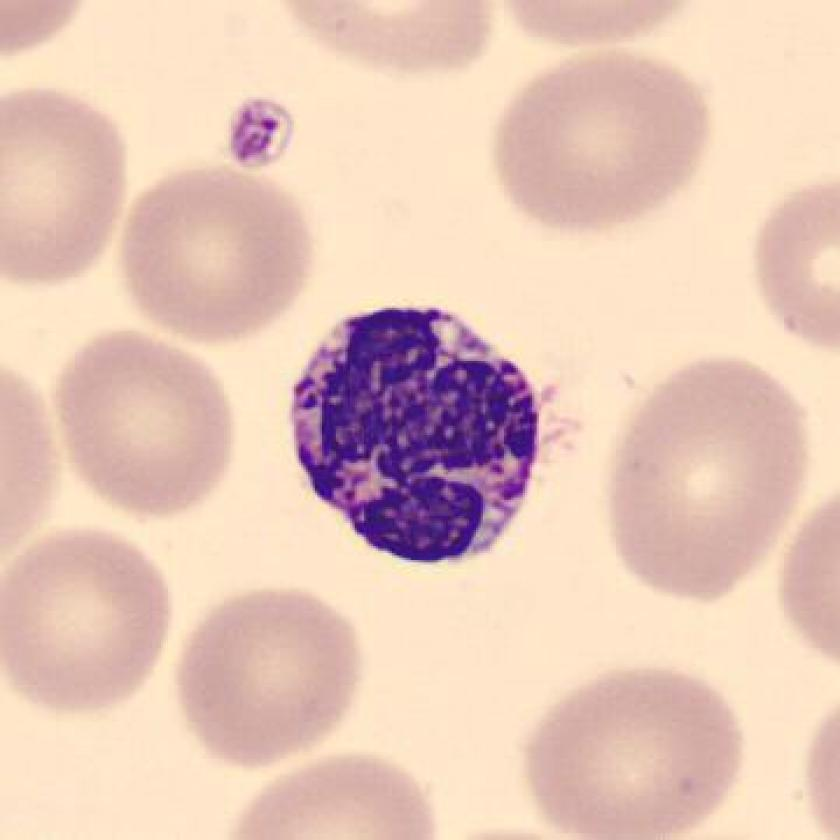basophil: (281, 290, 563, 577)
